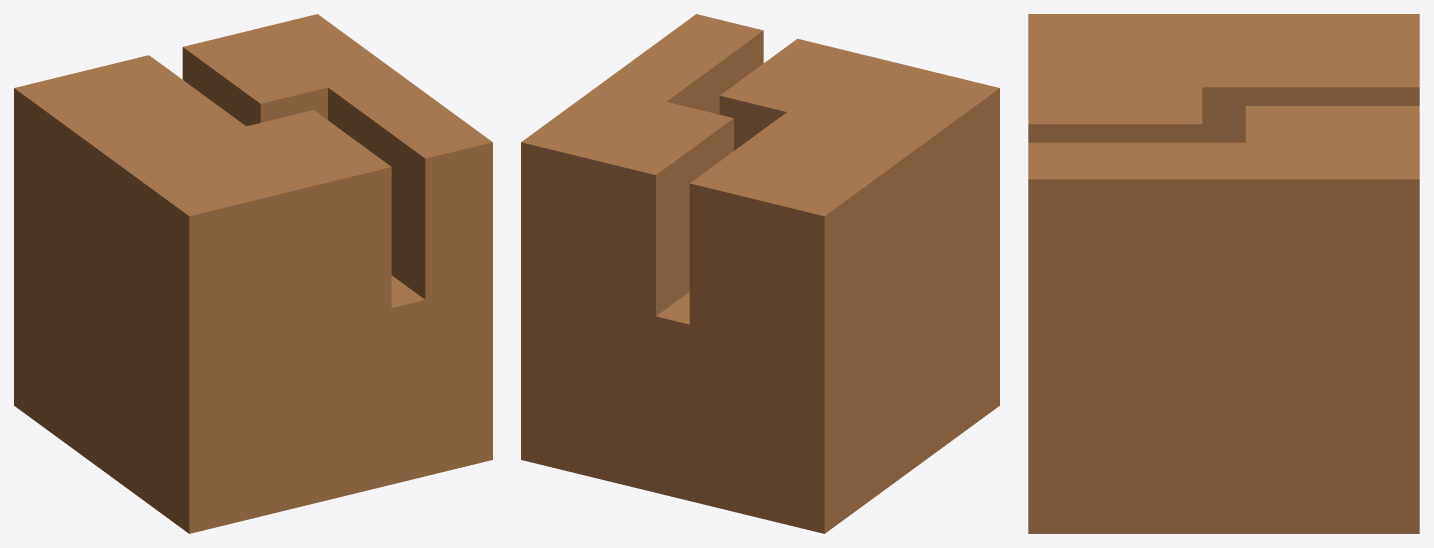
File: Thin_Connect_S(R)_to_M_Model.fbx
3 renders of one model, left to right at view 1: azimuth 30°, elevation 25°; view 2: azimuth 150°, elevation 25°; view 3: azimuth 270°, elevation 25°, orthographic. The views are drawn at different scales.
Parts seen in each view (by area): view 1: Cube; view 2: Cube; view 3: Cube.
Boxes of the visible parts, x1,y1,x2,y2 form: Cube: [14, 14, 492, 533]; Cube: [521, 14, 999, 533]; Cube: [1028, 14, 1419, 533].
Size of the model in its own units: 100 by 100 by 100.
